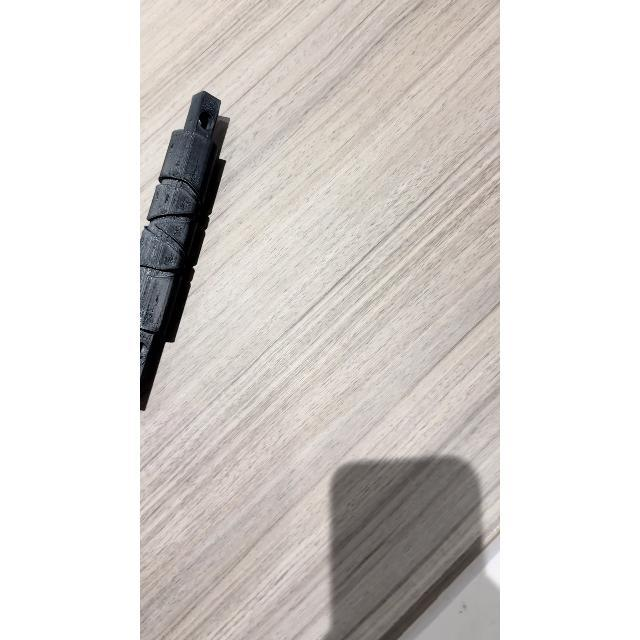Pieza1: (141, 87, 235, 405)
